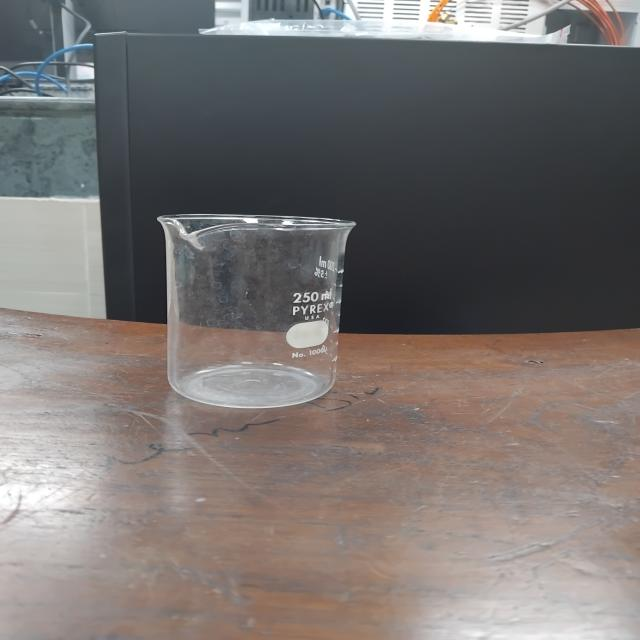Beaker: (109, 169, 400, 447)
